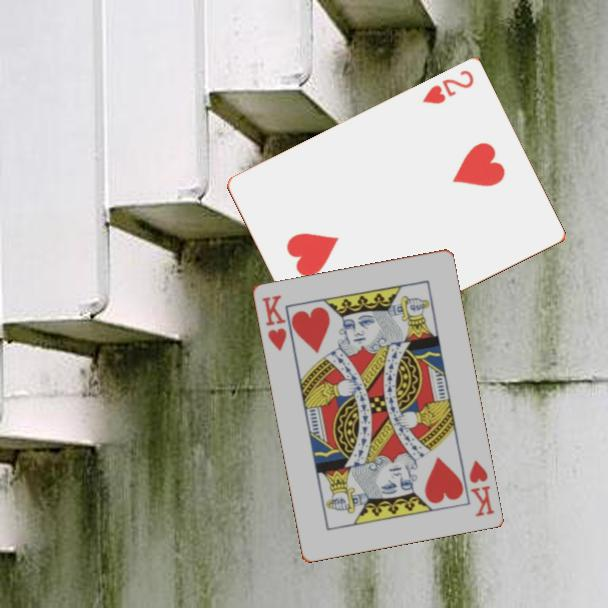h02: (418, 67, 477, 108)
h13: (465, 456, 497, 519), (258, 291, 289, 354)
